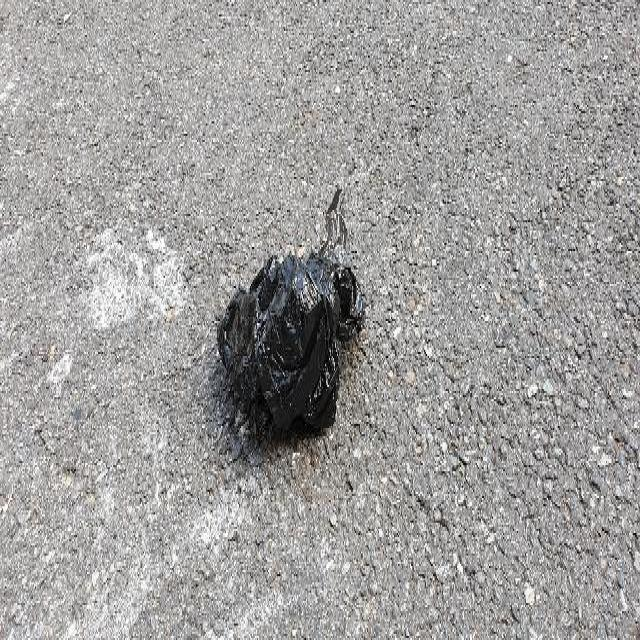plastic bag: (217, 186, 364, 447)
